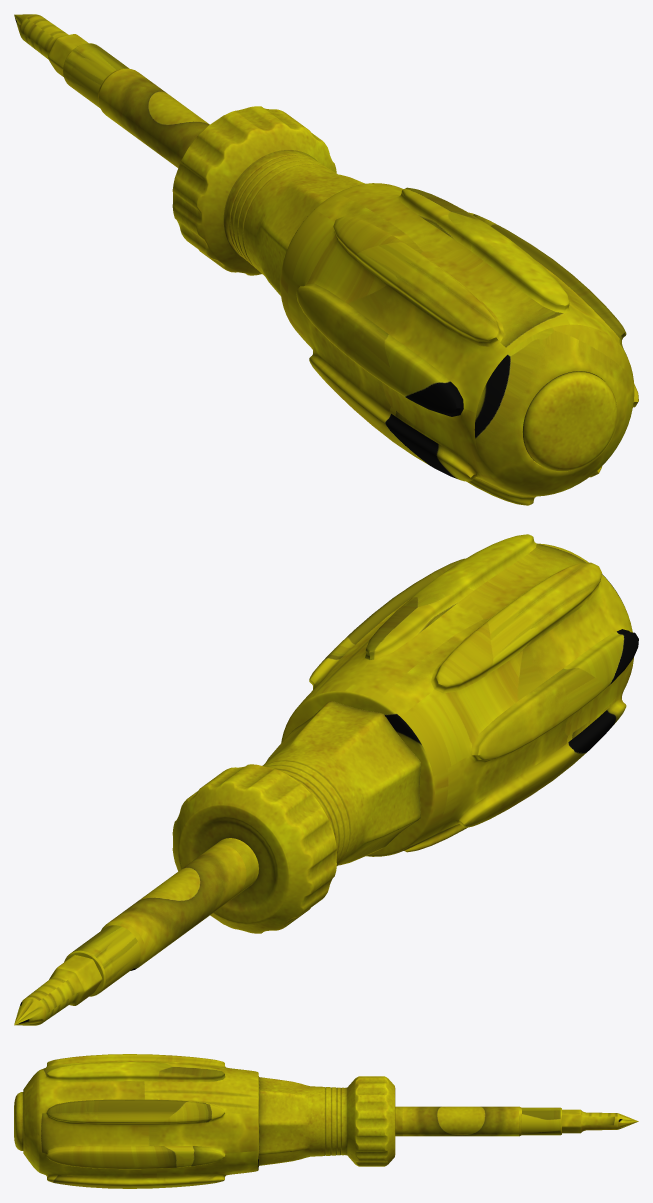
File: screwdriver.fbx
The picture shows the model from 3 angles, top to bottom: view 1: azimuth 30°, elevation 25°; view 2: azimuth 150°, elevation 25°; view 3: azimuth 270°, elevation 25°; orthographic projection. The views are drawn at different scales.
Visible parts, largest first — view 1: Object_3, Object_2; view 2: Object_3, Object_2; view 3: Object_3, Object_2.
Part boxes in pixels (x1=…): Object_3: x1=14, y1=14, x2=638, y2=505; Object_2: x1=172, y1=106, x2=617, y2=471; Object_3: x1=14, y1=534, x2=638, y2=1025; Object_2: x1=172, y1=701, x2=420, y2=933; Object_3: x1=23, y1=1054, x2=638, y2=1188; Object_2: x1=14, y1=1076, x2=395, y2=1166.
Bounding box in the file's own units: 129 × 129 × 601.
Materials: 2 (2 with a texture image).
